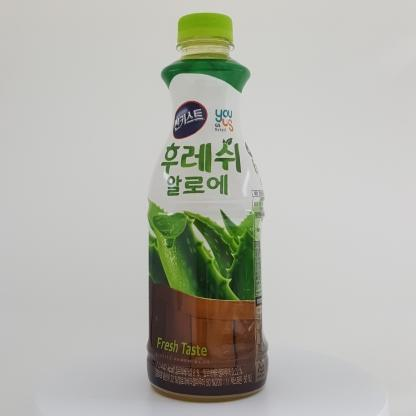----------1L: (146, 13, 269, 402)
